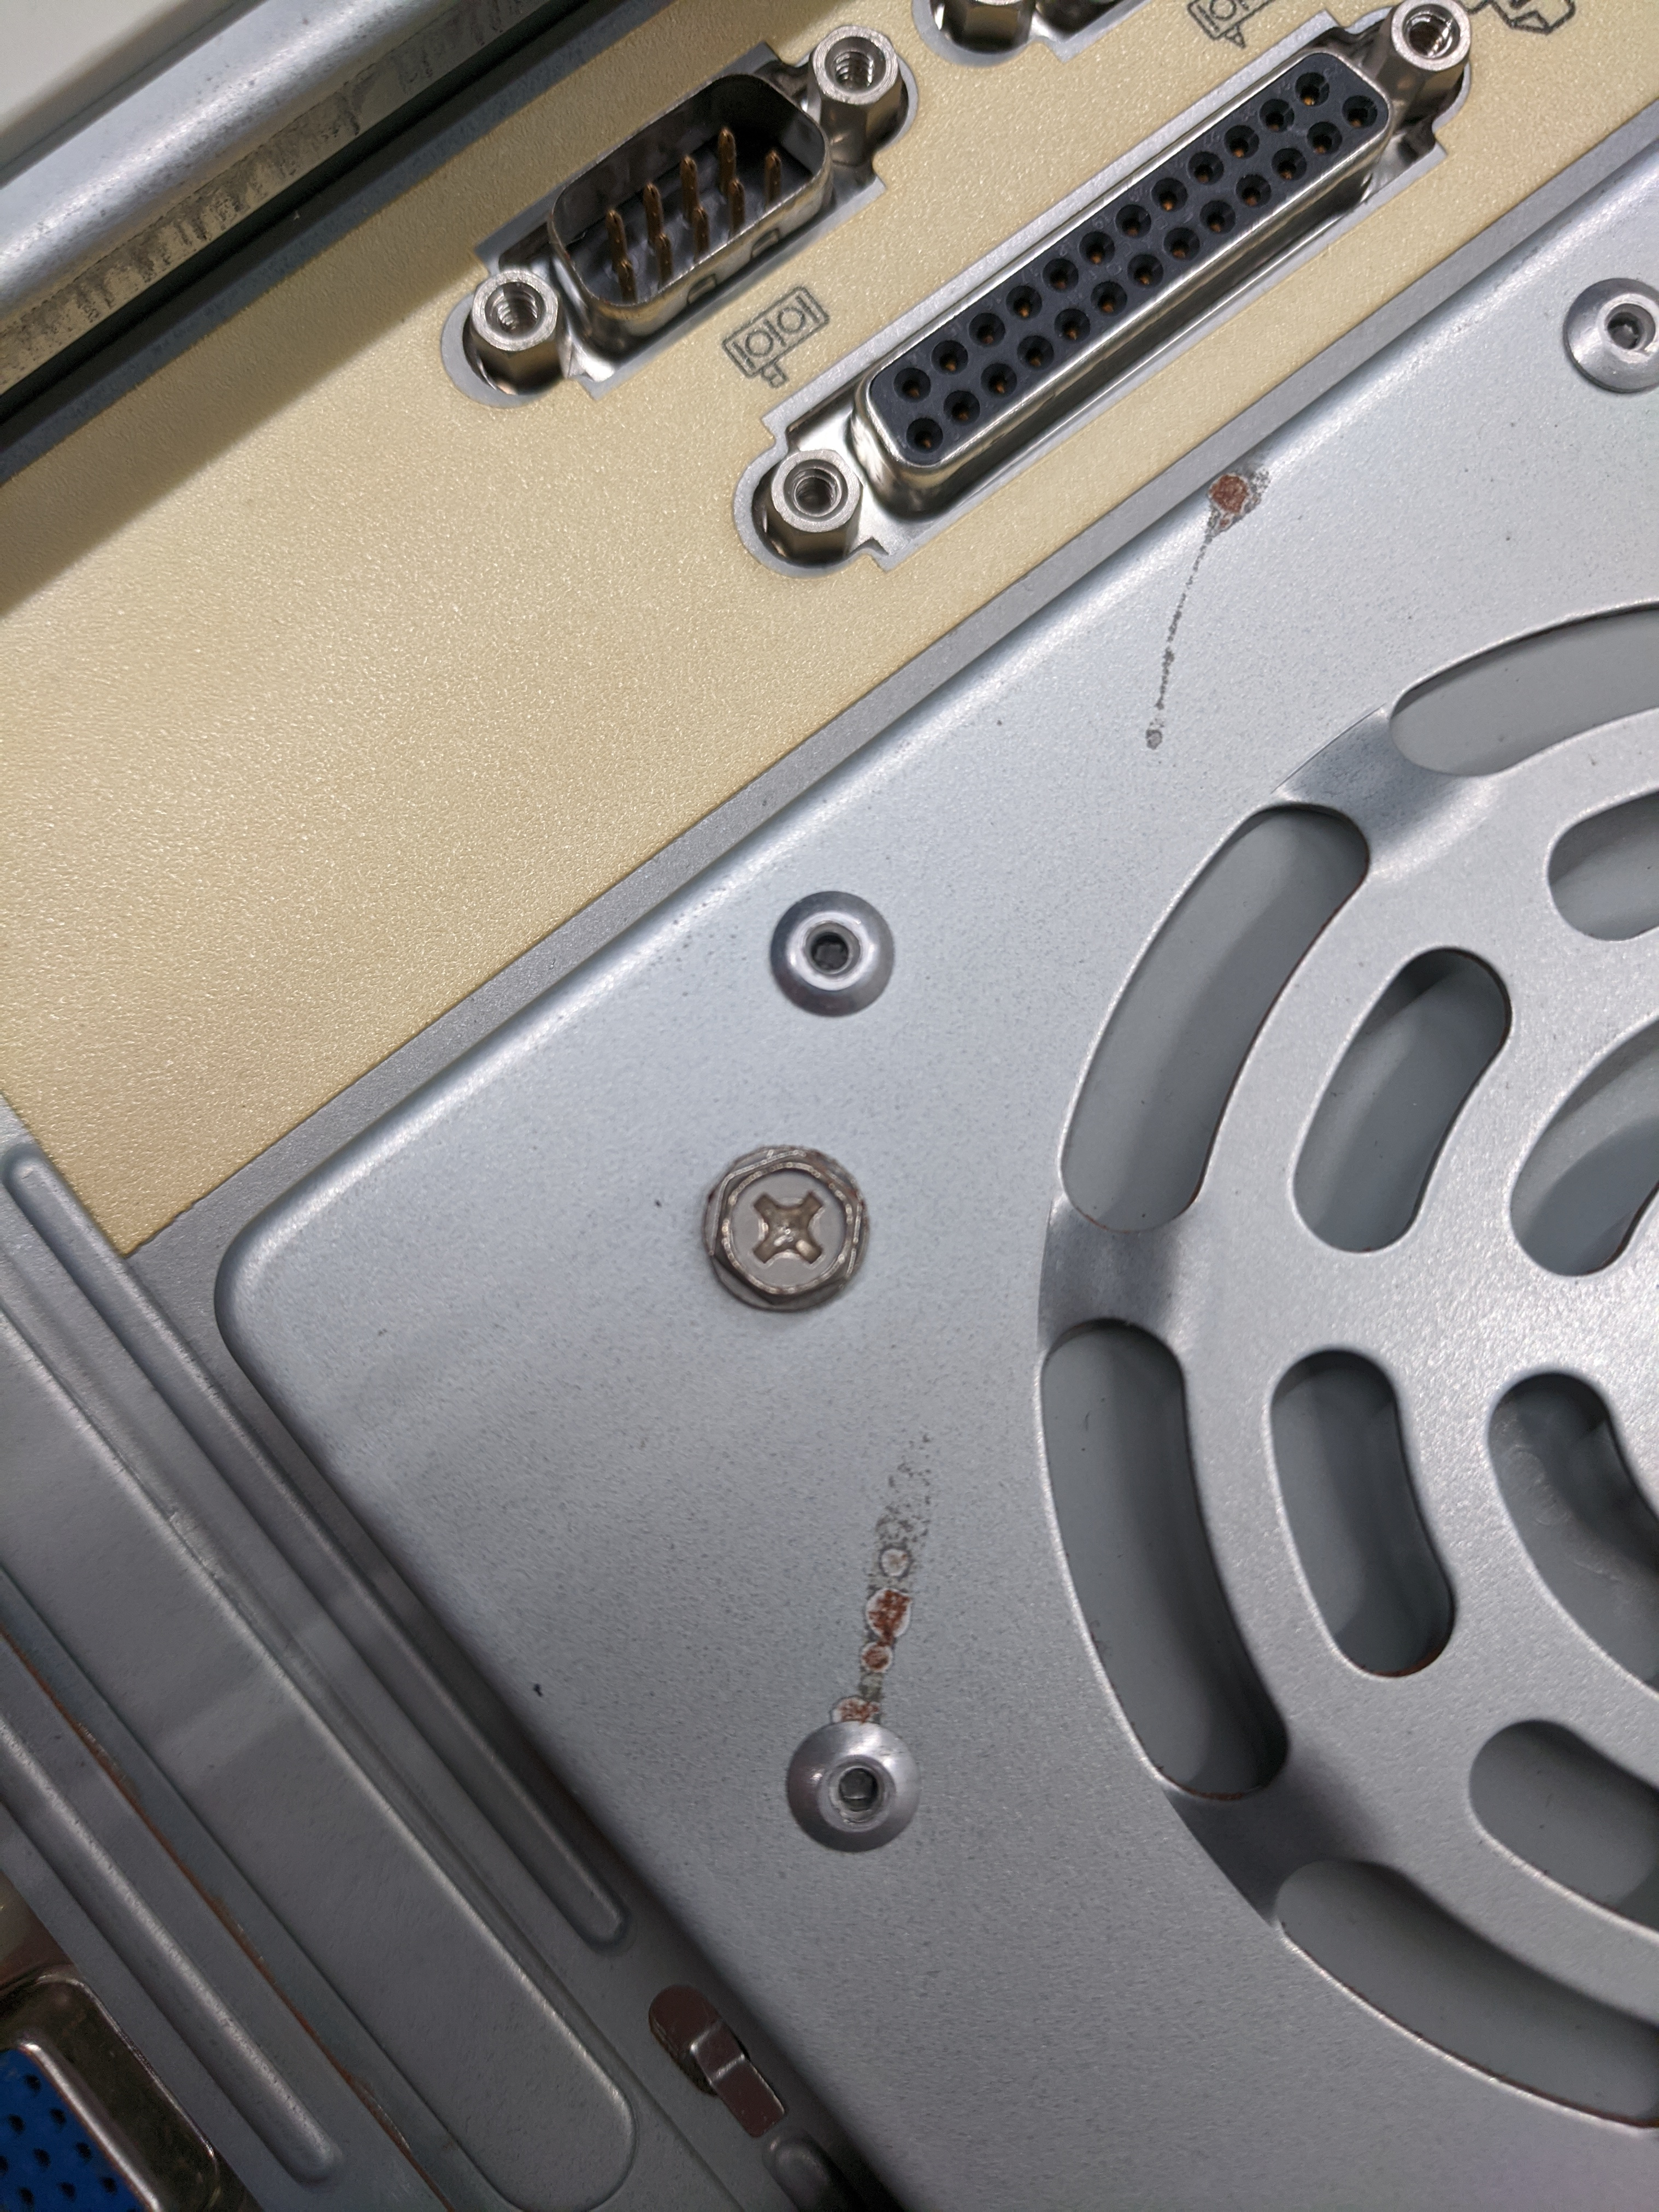cross_recessed_screw: (702, 1132, 868, 1313)
